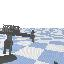drone: (0, 24, 35, 55)
